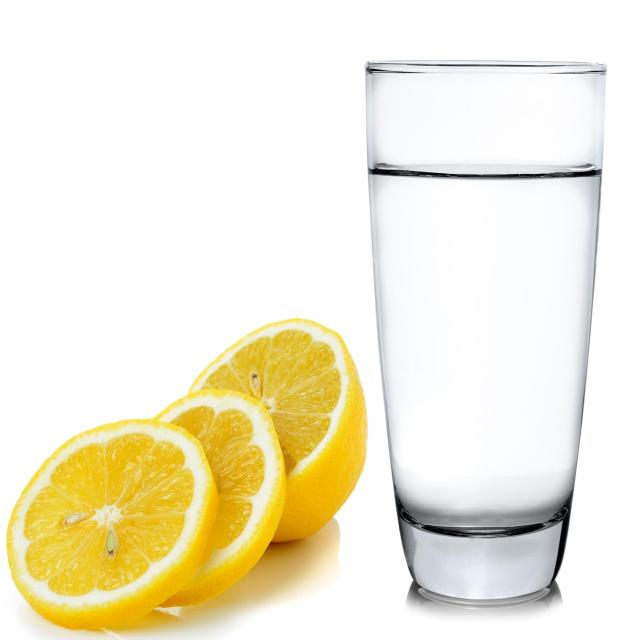lemon: (0, 414, 221, 632)
